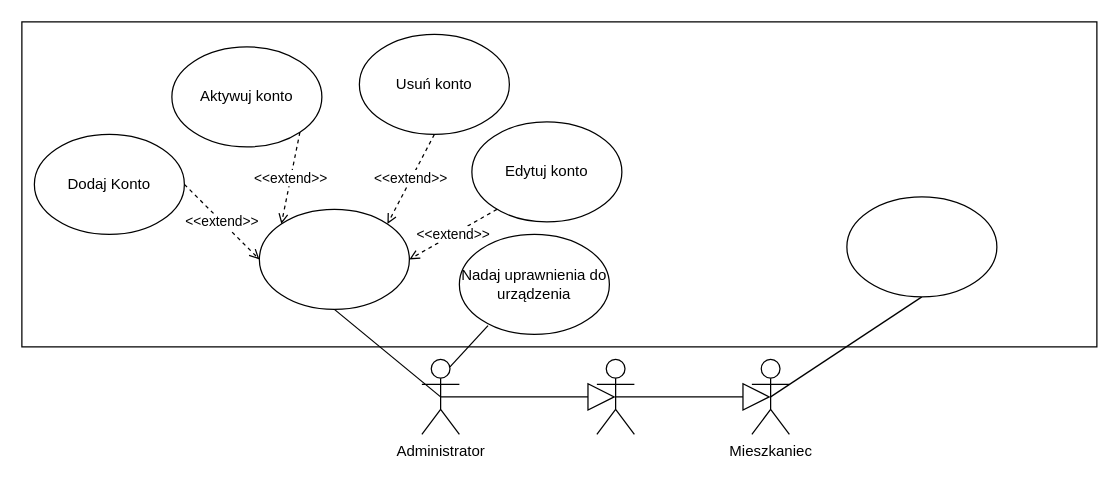
Image size: 1119x501. Some labels were removed from this diagram. The box of each missing label's shape, as (x1, y1, x2, y2) in pixels:
Inżynier: (596, 358, 634, 434)
Wyloguj sie: (846, 196, 997, 297)
Zarządzanie Kontami użytkowników: (258, 208, 409, 309)
